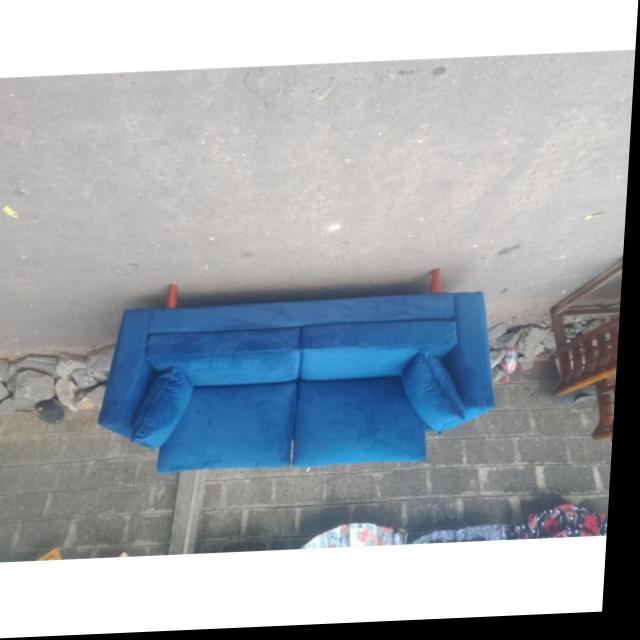Sofa: (99, 271, 506, 481)
